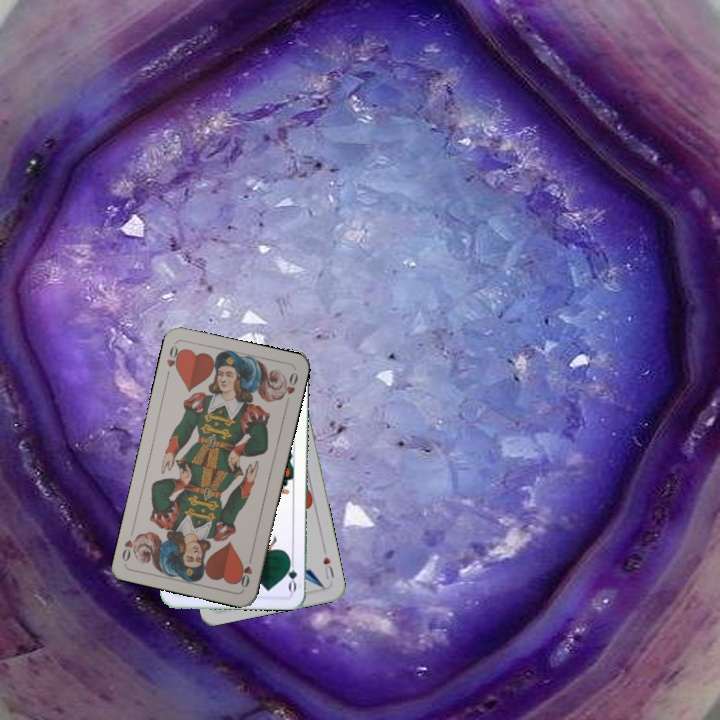GO: (284, 553, 299, 594)
HO: (162, 341, 185, 381), (235, 551, 255, 590)
HU: (319, 552, 337, 582)
